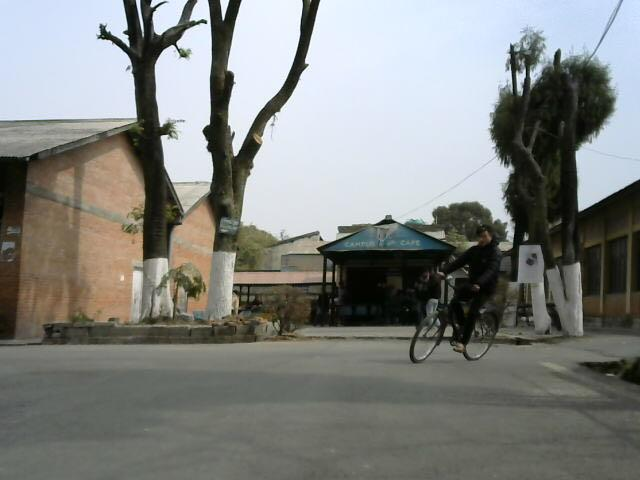Building: (0, 119, 151, 337), (315, 197, 451, 341)
Person: (406, 205, 524, 404)
Road: (4, 349, 640, 480)
Tree: (94, 0, 314, 315), (483, 34, 640, 342)
